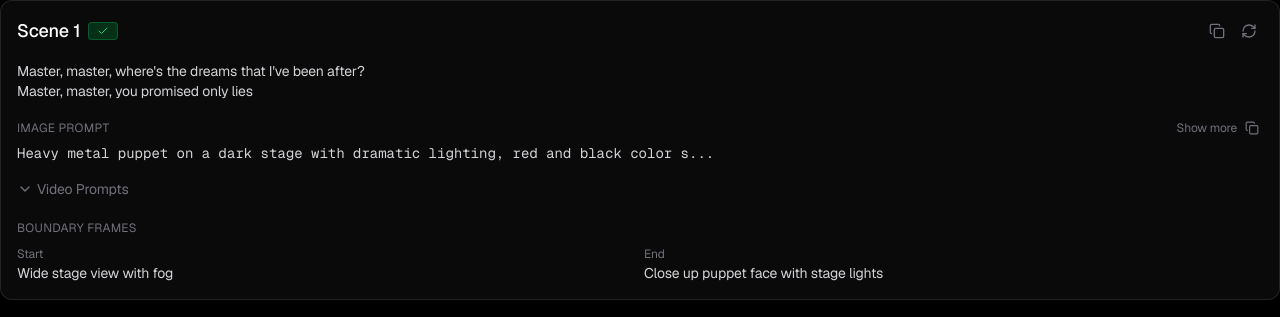
Test: SceneCard › Stage Reroll › offers stage-specific reroll options after opening menu
This screenshot has width=1280, height=317.
What coordinates should you click on to do the following:
click the button named "reroll menu"
I would click on:
 (1249, 31)
Its box is [1235,17,1263,45].
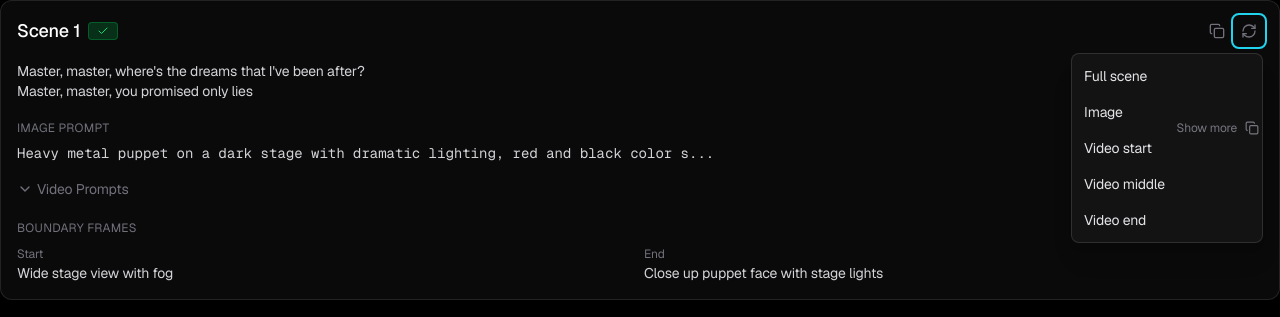
Check: the button with aria-label "reroll full scene" is shown, box [1072,58,1262,94]
Check: the button with aria-label "reroll image" is shown, box [1072,94,1262,130]
Check: the button with aria-label "reroll video start" is shown, box [1072,130,1262,166]
